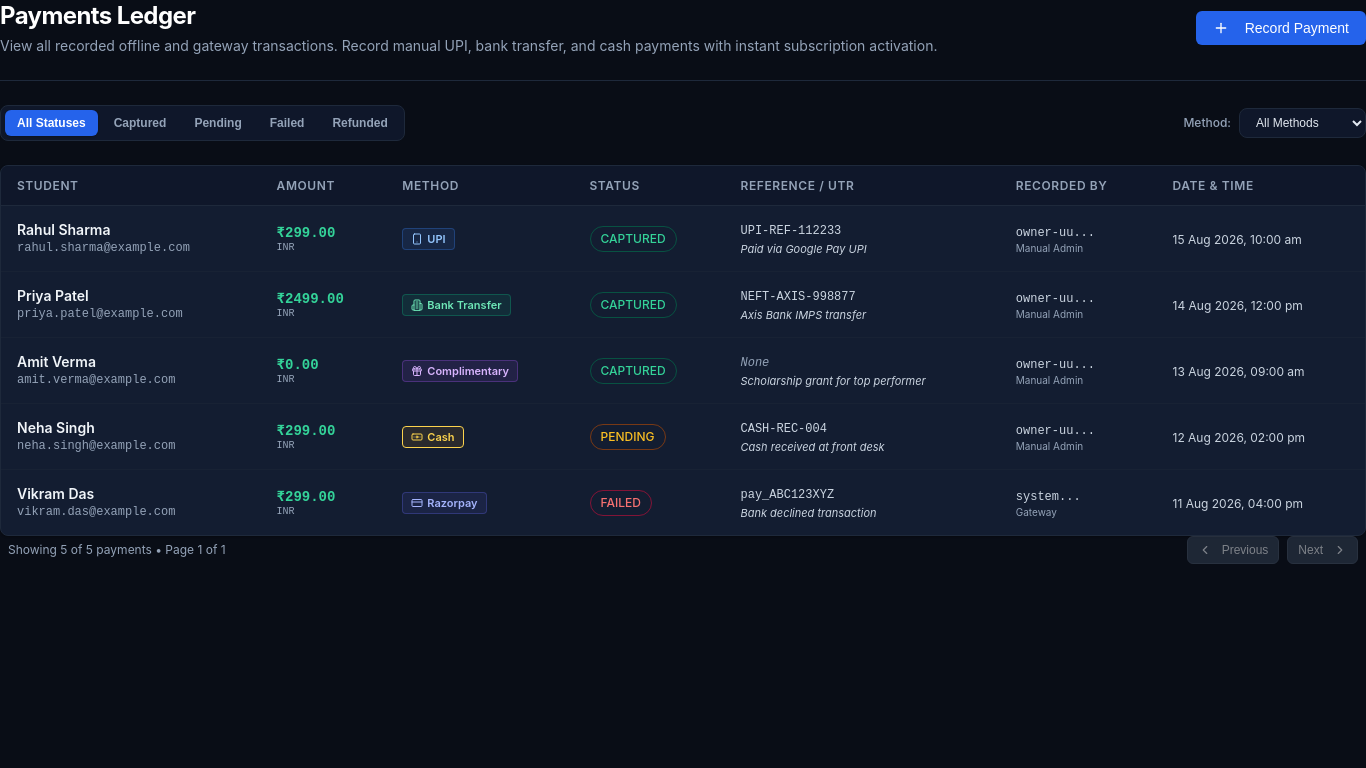
Test: PHASE 7 — Payments Ledger & Manual Payment Tests › 7. opens RecordPaymentModal, records manual UPI payment, and refetches payment ledger
Expected: the text "Rahul Sharma" is shown, [17,221,110,238]
Click Record Payment button
Click the button "Record Payment" at [1281, 28], box [1196,11,1365,45]
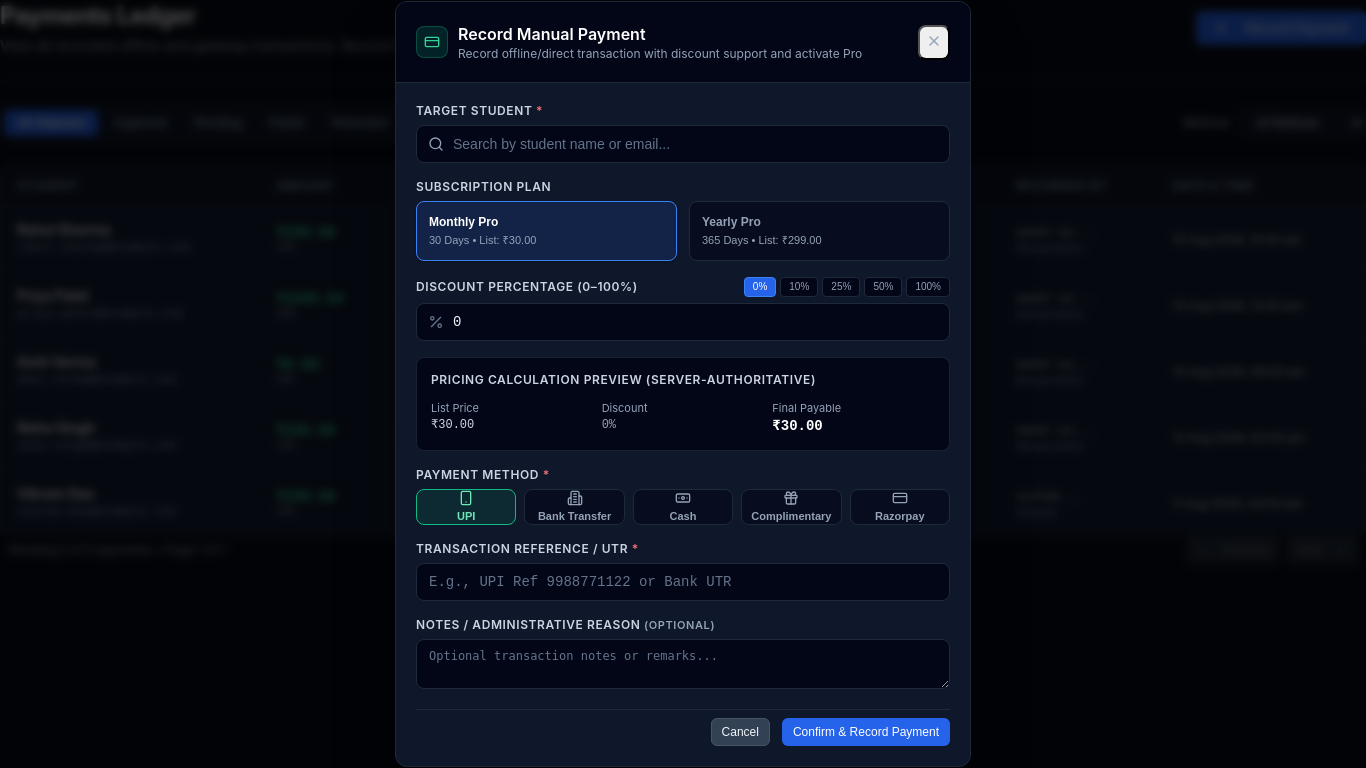
Now the heading "Record Manual Payment" is shown, box [458,24,646,44]
Search and select student
Type "deepak" into the dropdown with placeholder "Search by student name or email..." at [683, 144], box [416,125,950,163]
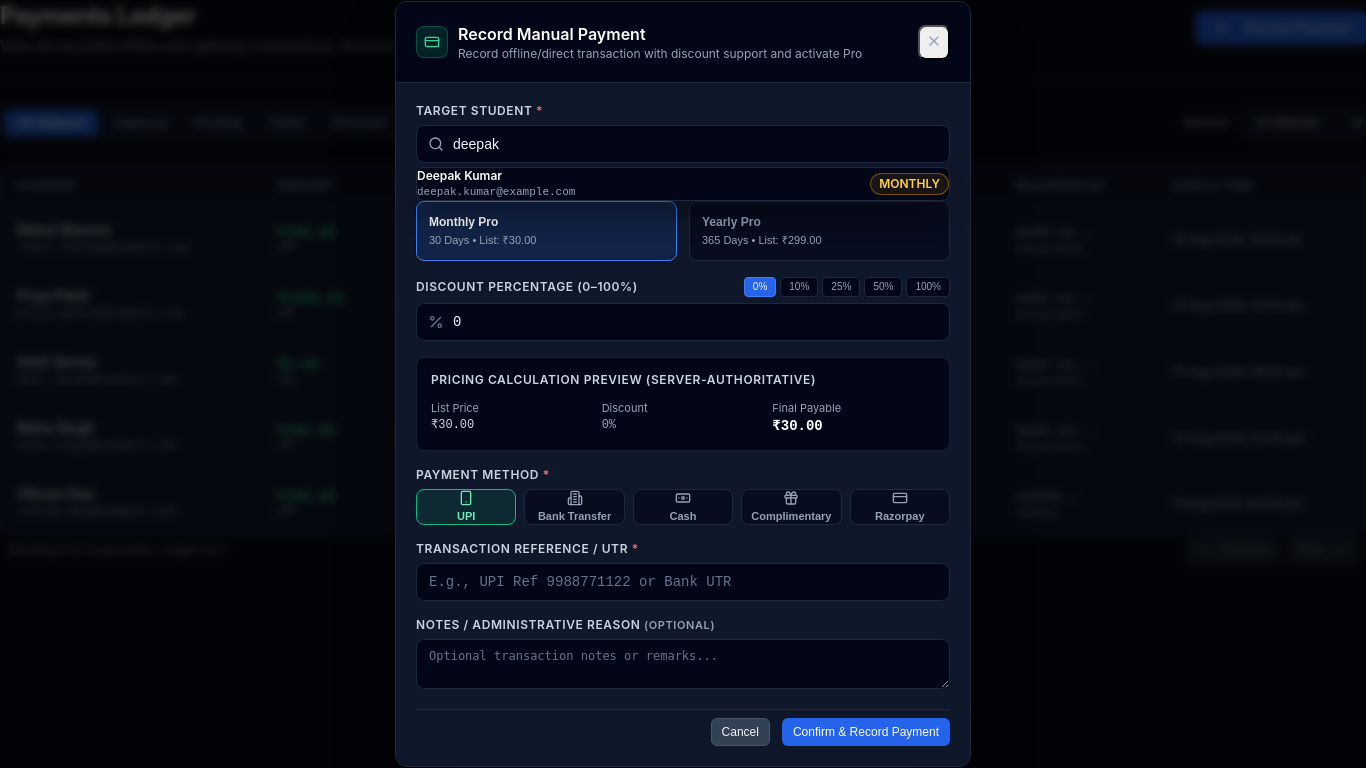
Click the text "deepak.kumar@example.com" at [496, 192], box [417,184,575,200]
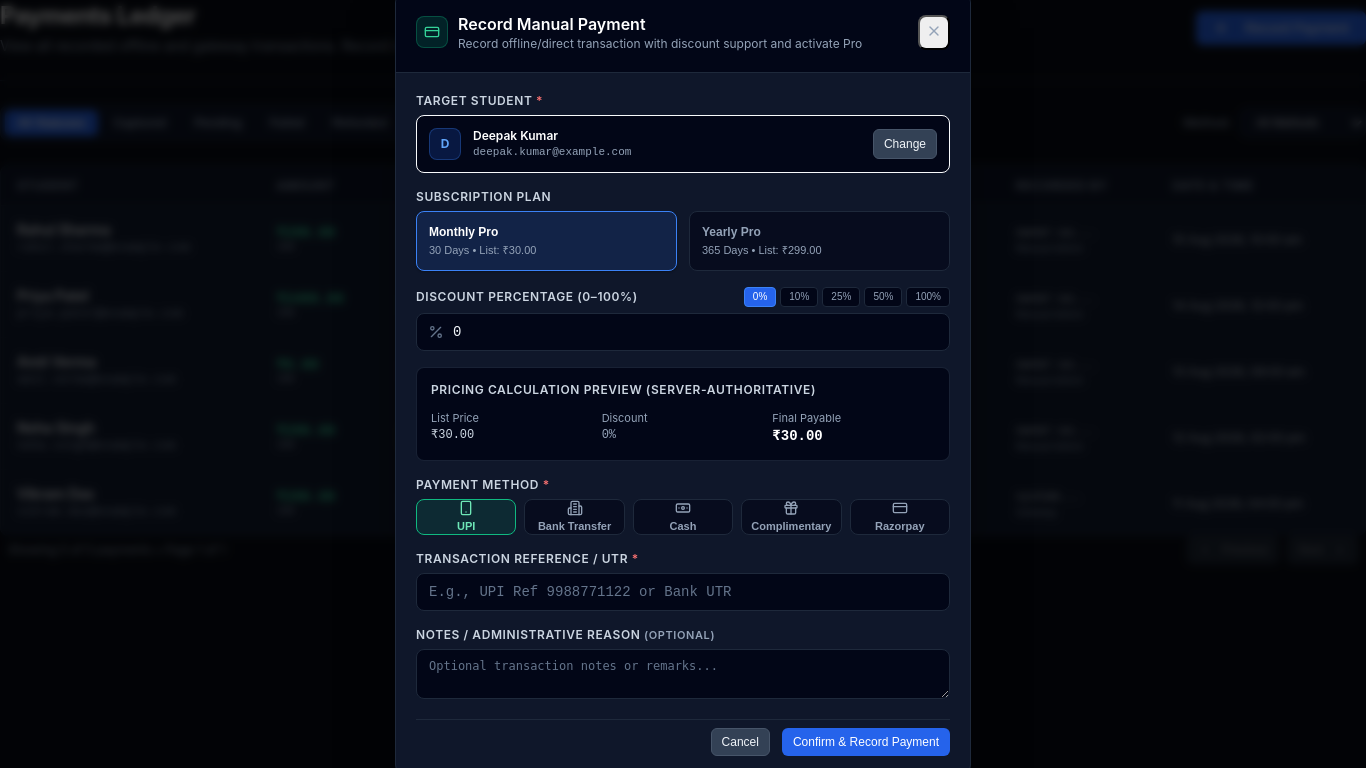
Enter transaction reference
Type "UPI-NEW-778899" into the field labelled "Transaction Reference / UTR *" at [683, 592], box [416,573,950,611]
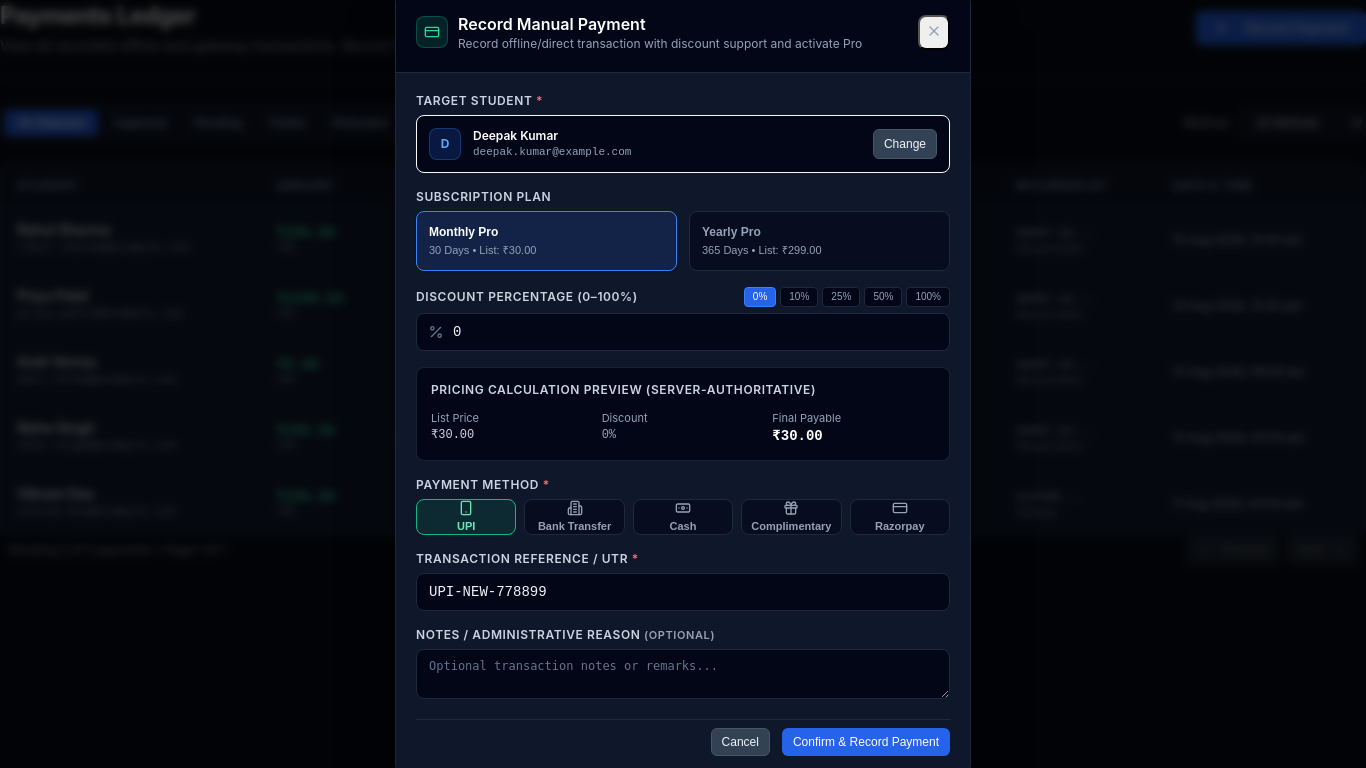
Submit payment
Click the button "Confirm & Record Payment" at [866, 742], box [782,728,950,756]
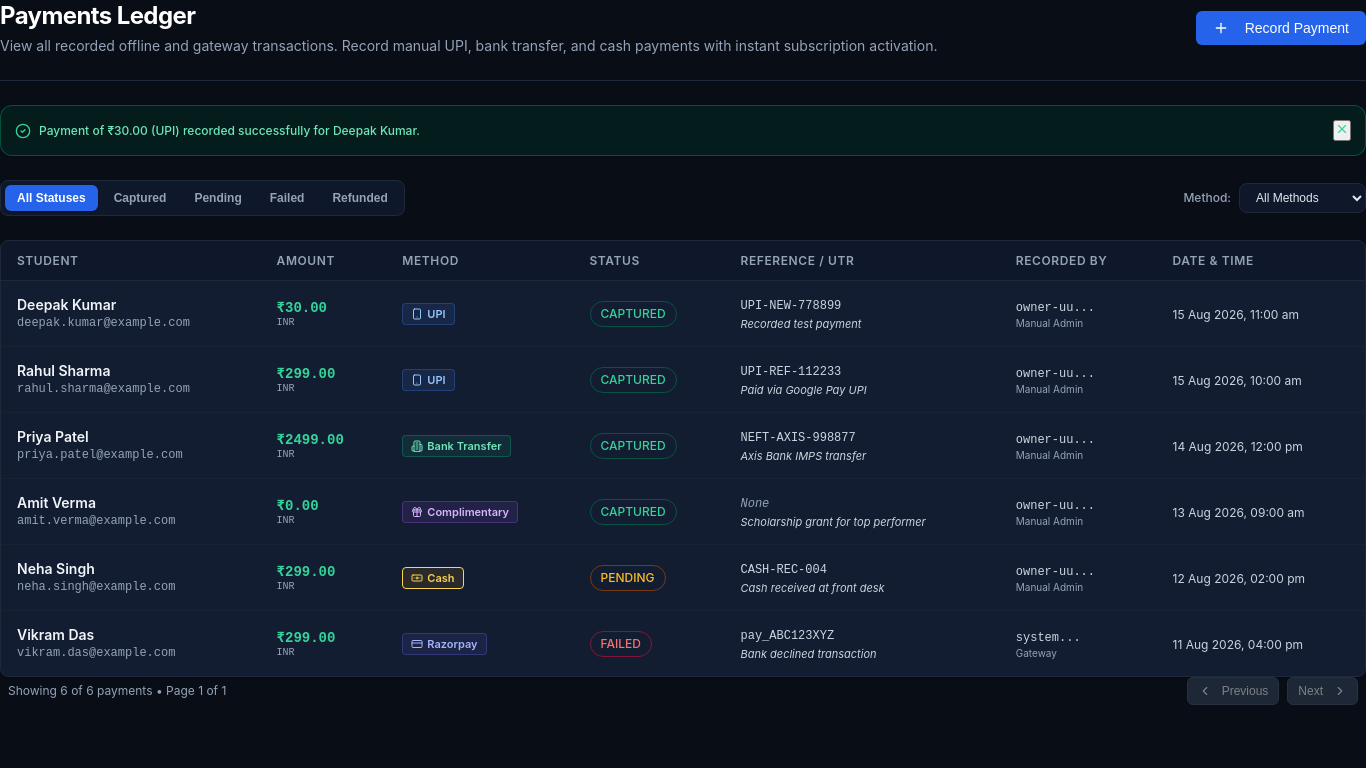
Now the text "Payment of ₹30.00 (UPI) recorded successfully" is shown, box [39,122,420,138]
Now the text "UPI-NEW-778899" is shown, box [740,299,841,313]
